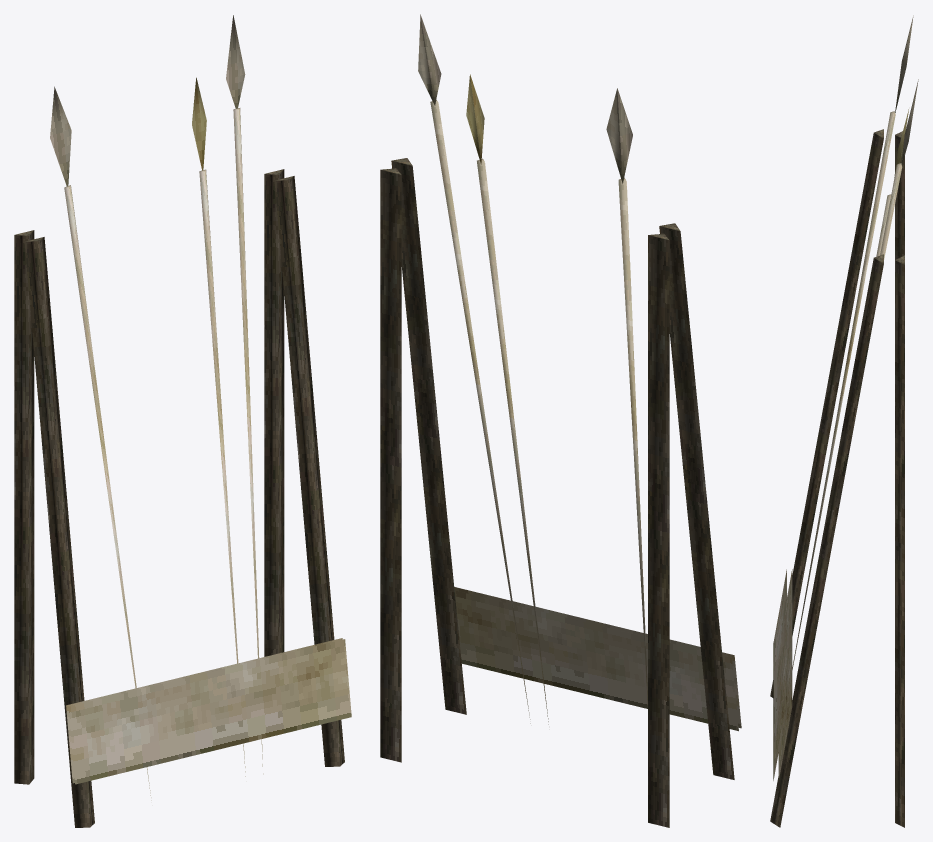
Rendered from thm_dant_rack_spears_l4.fbx.
3 views of the same model, side by side, from view 1: azimuth 30°, elevation 25°; view 2: azimuth 150°, elevation 25°; view 3: azimuth 270°, elevation 25° (orthographic). The views are drawn at different scales.
Visible parts, largest first — view 1: mesh_node; view 2: mesh_node; view 3: mesh_node.
Boxes of the visible parts, left/top/right/bottom form: mesh_node: left=14, top=15, right=351, bottom=827; mesh_node: left=380, top=14, right=741, bottom=827; mesh_node: left=770, top=15, right=918, bottom=827.
Bounding box in the file's own units: 0.9508 × 2.33 × 0.4313.
1 material, 1 textured.
